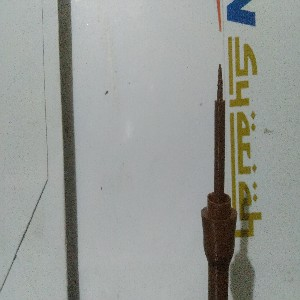solder: (200, 62, 239, 300)
